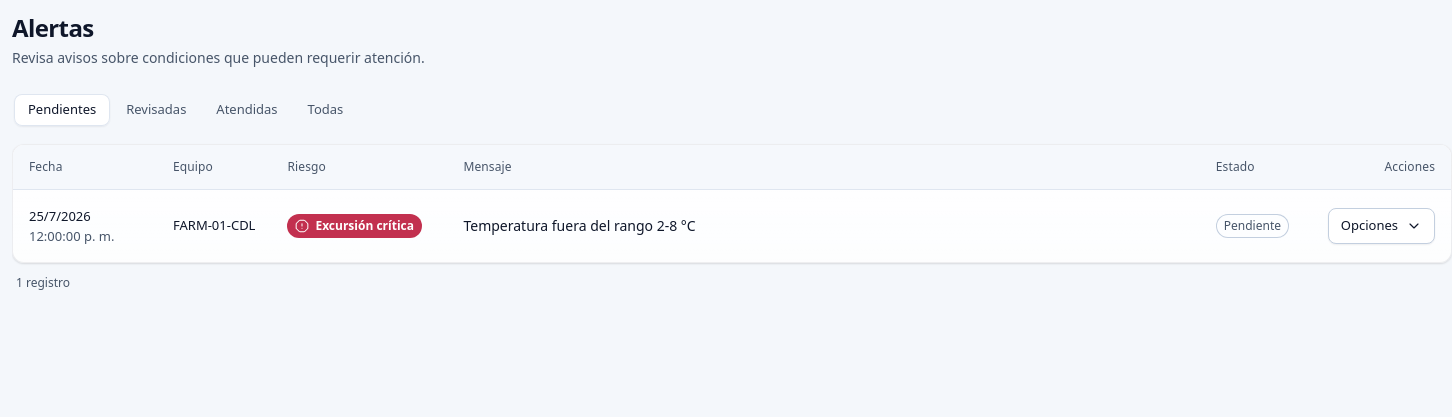
Scenario: AlertasPage (RF-09, RF-10, HU-20/21/23/27/41) › permite a un farmacéutico marcar una alerta pendiente como revisada
Step 1. Click the button "Opciones" → point(1381, 226), box top-left (1328, 208), bottom-right (1435, 244)
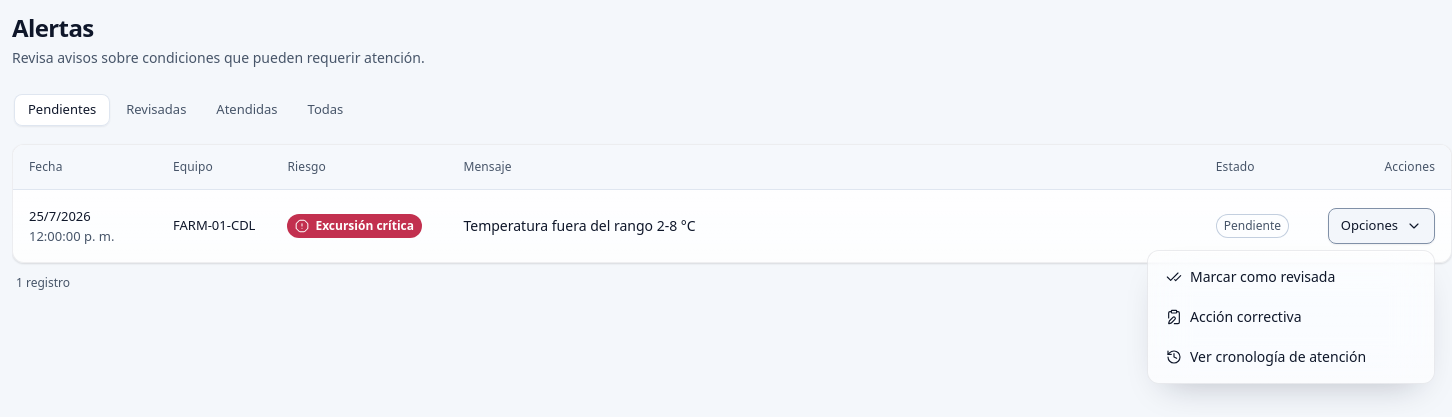
Check: the menu item "Marcar como revisada" is shown, box top-left (1154, 257), bottom-right (1428, 297)
